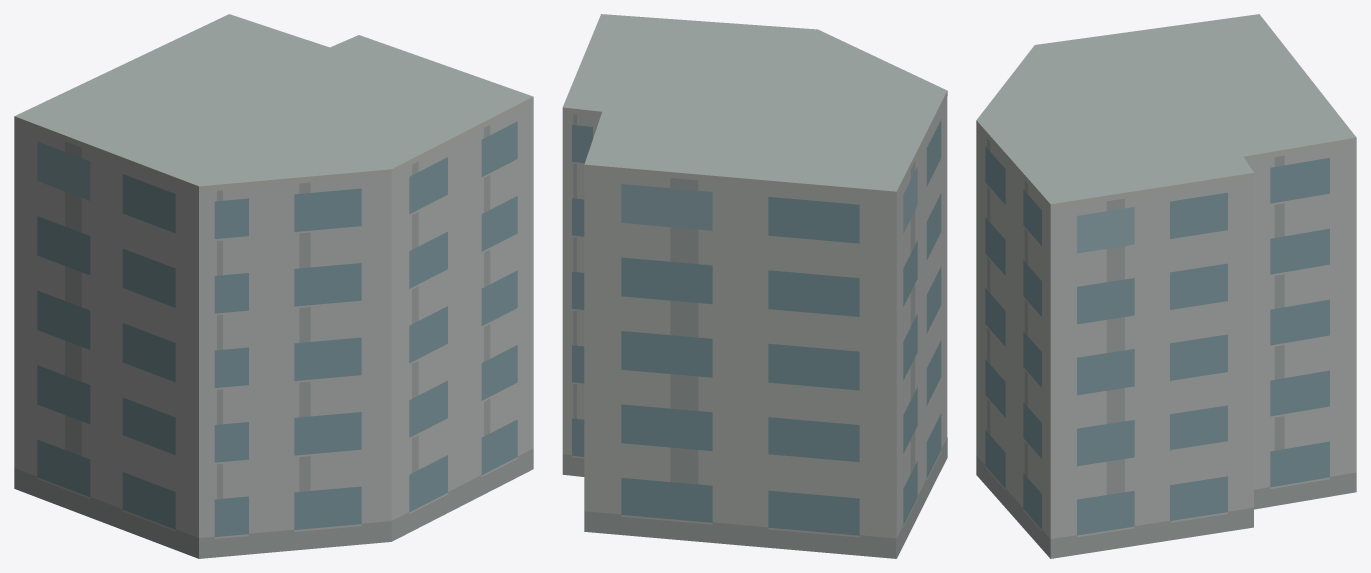
File: survey-upis-32941444.glb
The picture shows the model from 3 angles, left to right: view 1: azimuth 30°, elevation 25°; view 2: azimuth 150°, elevation 25°; view 3: azimuth 270°, elevation 25°; orthographic projection. The views are drawn at different scales.
Visible parts, largest first — view 1: survey-upis-32941444.tmp; view 2: survey-upis-32941444.tmp; view 3: survey-upis-32941444.tmp.
Boxes of the visible parts, left/top/right/bottom form: survey-upis-32941444.tmp: left=14, top=14, right=533, bottom=558; survey-upis-32941444.tmp: left=562, top=14, right=947, bottom=558; survey-upis-32941444.tmp: left=976, top=14, right=1356, bottom=558.
Bounding box in the file's own units: 17.56 × 15.25 × 14.83.
